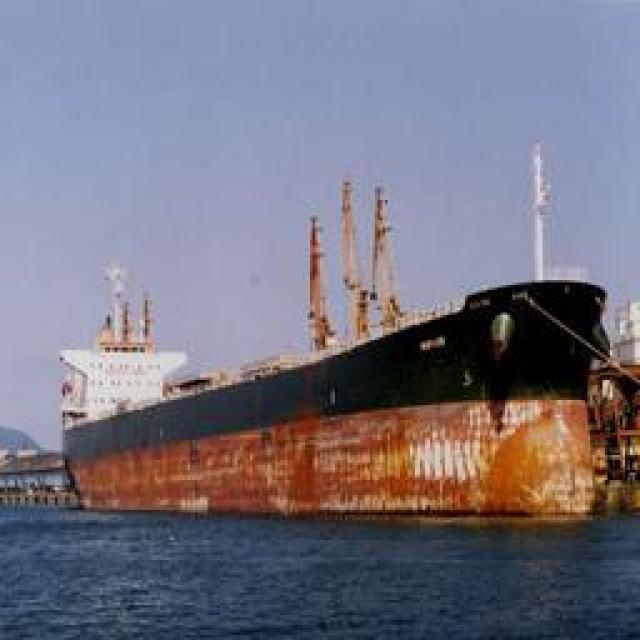CIV_Ship: (64, 260, 636, 515)
